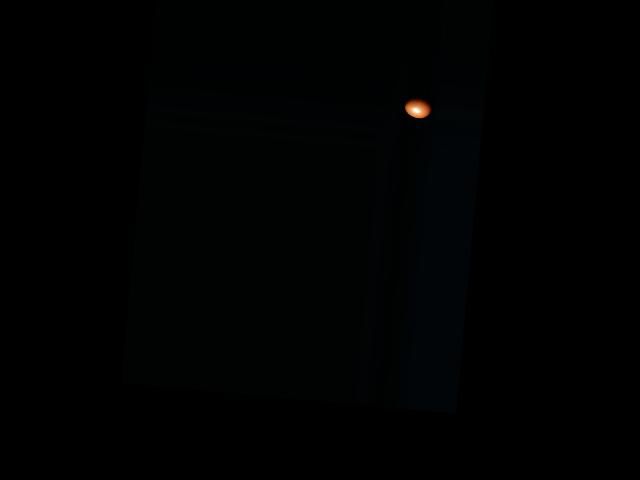egg: (404, 95, 433, 118)
